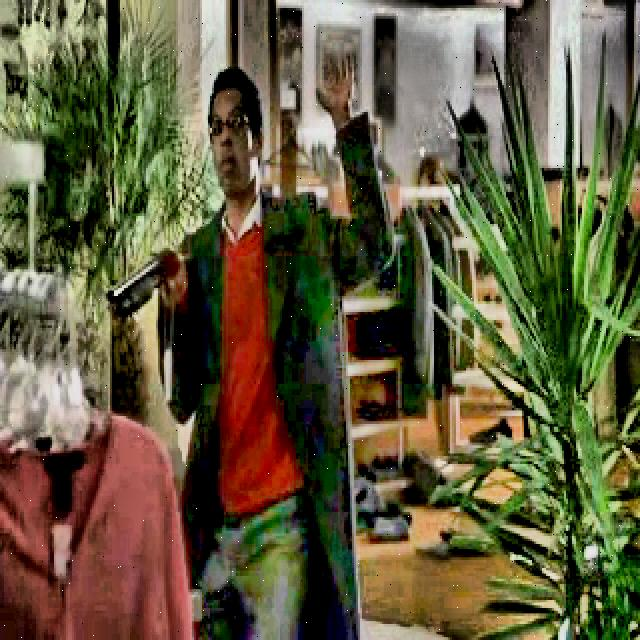L: (107, 53, 392, 636)
